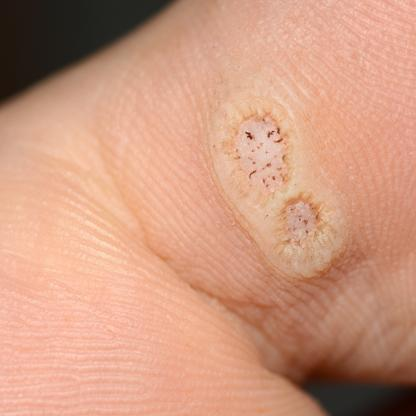Warts: (203, 78, 353, 287)
